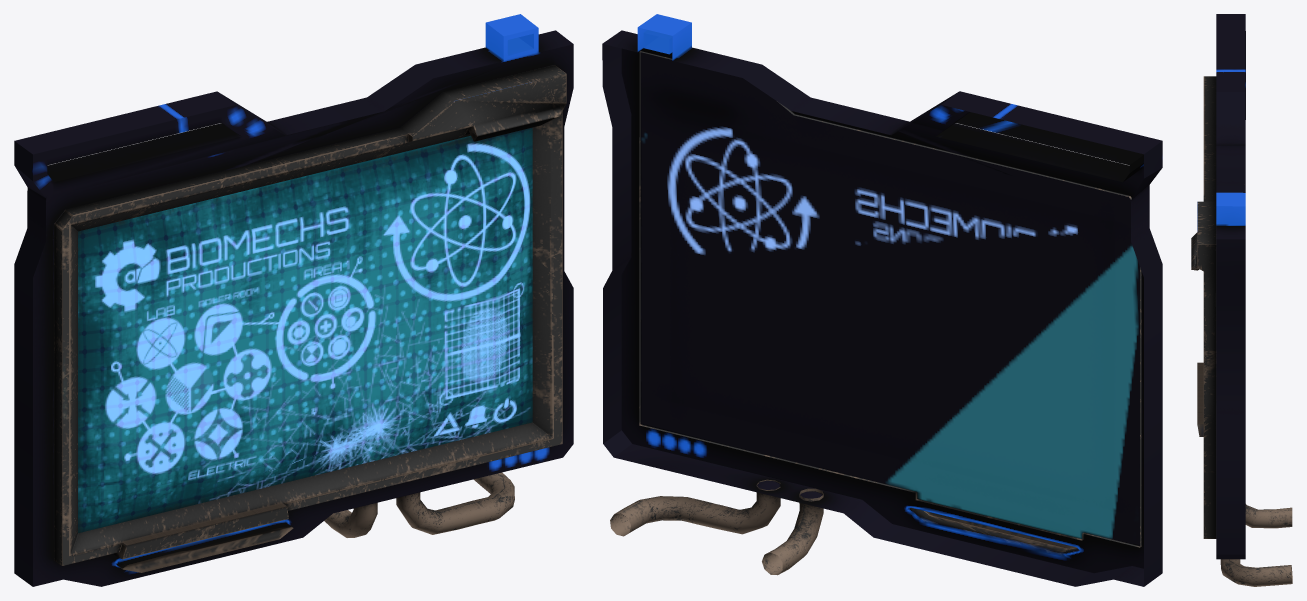
The model's file is screen.gltf.
3 views of the same model, side by side, from view 1: azimuth 30°, elevation 25°; view 2: azimuth 150°, elevation 25°; view 3: azimuth 270°, elevation 25° (orthographic). The views are drawn at different scales.
Visible parts, largest first — view 1: marco__0; view 2: marco__0; view 3: marco__0.
Part boxes in pixels (bbox=[...]): marco__0: bbox=[14, 14, 573, 586]; marco__0: bbox=[602, 14, 1162, 586]; marco__0: bbox=[1191, 14, 1292, 586].
Size of the model in its own units: 61.18 by 52.87 by 12.58.
Materials: 1 (1 with a texture image).
